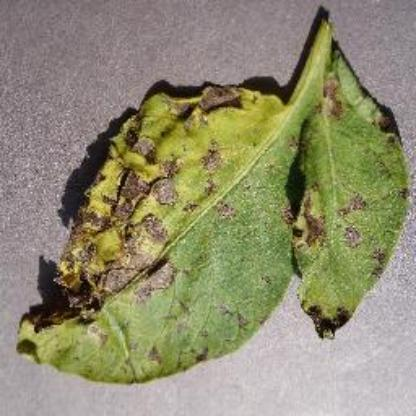Early-Blight: (19, 15, 330, 387), (288, 48, 410, 342)
